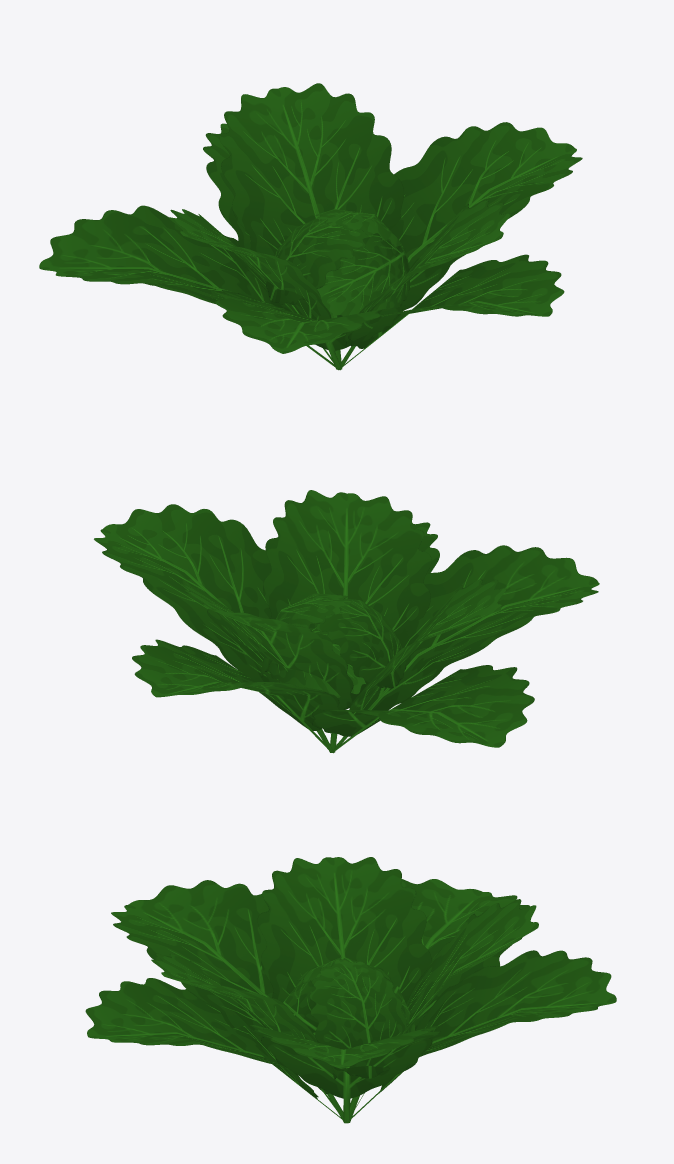
File: CabbagePlant02.fbx
3 renders of one model, top to bottom at view 1: azimuth 30°, elevation 25°; view 2: azimuth 150°, elevation 25°; view 3: azimuth 270°, elevation 25°, orthographic. The views are drawn at different scales.
Parts seen in each view (by area): view 1: CabbagePlant02_LOD0; view 2: CabbagePlant02_LOD0; view 3: CabbagePlant02_LOD0.
Boxes of the visible parts, x1,y1,x2,y2 form: CabbagePlant02_LOD0: (39, 83, 582, 370); CabbagePlant02_LOD0: (94, 490, 599, 753); CabbagePlant02_LOD0: (85, 857, 616, 1123).
Size of what is drawn, in the model's own units: 45.54 by 19.82 by 44.72.
